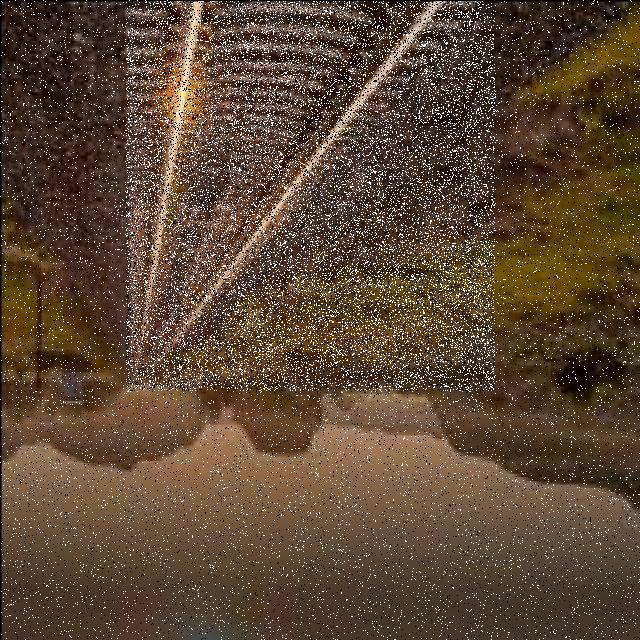rail: (126, 1, 495, 391)
